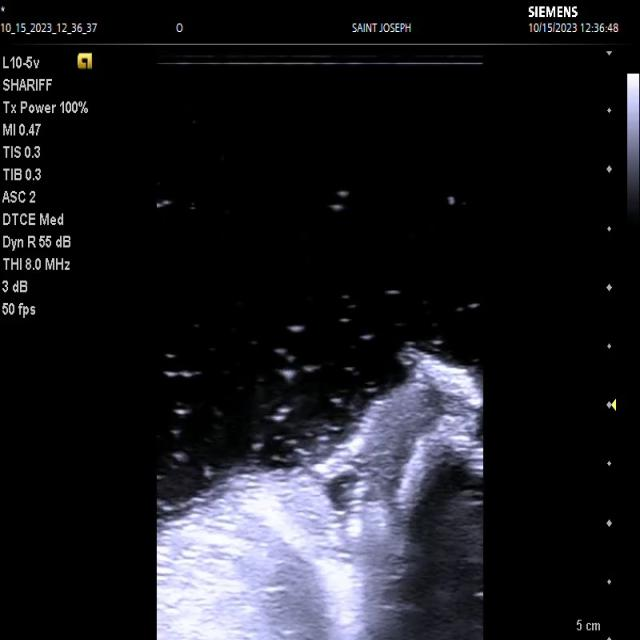tissue: (157, 341, 483, 640)
